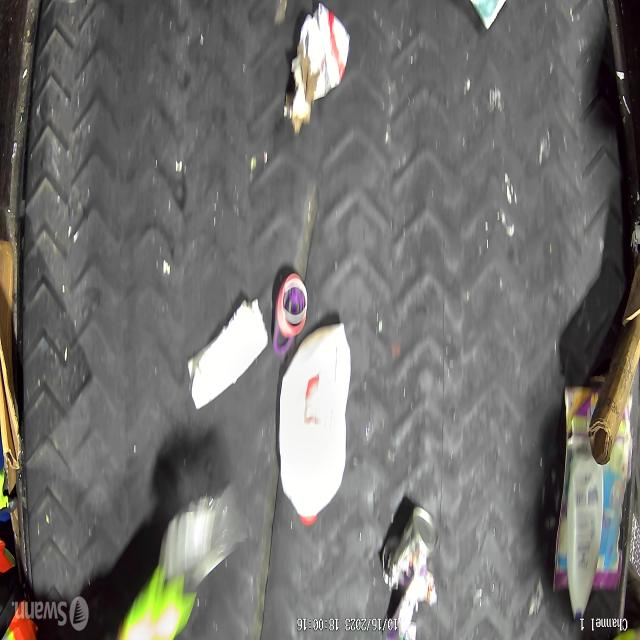can: (382, 506, 438, 590)
milk_jug: (279, 321, 351, 528)
